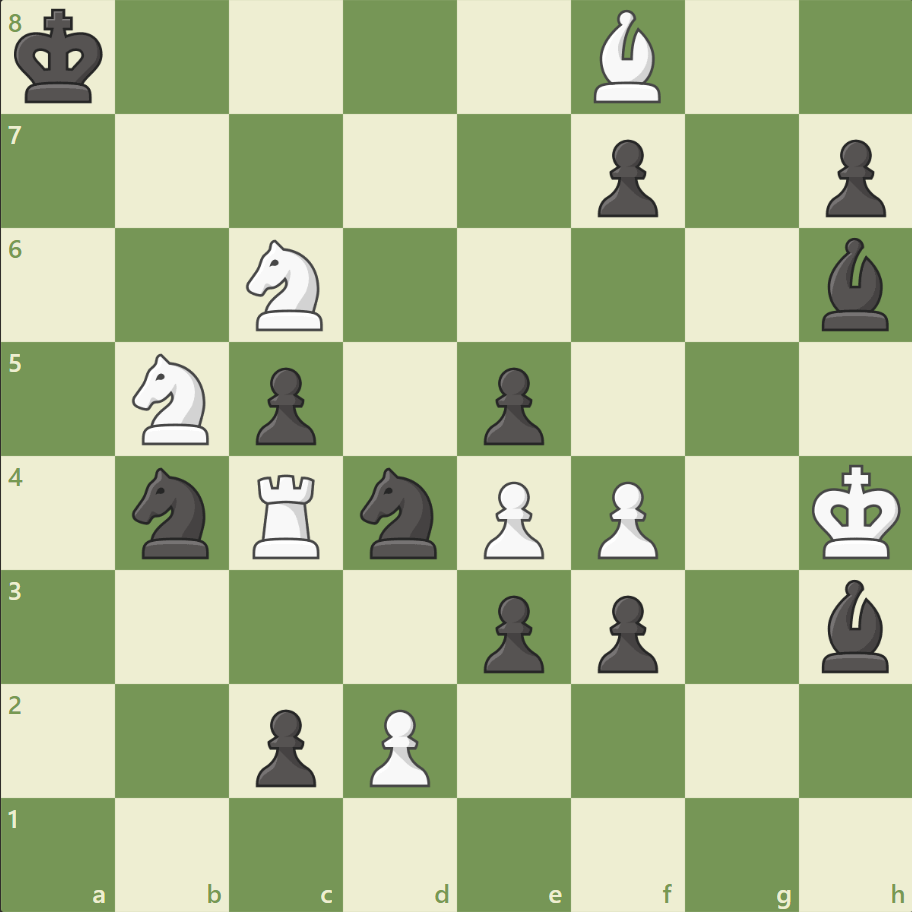B: (585, 6, 669, 109)
K: (806, 458, 906, 566)
N: (124, 348, 222, 450), (238, 234, 335, 337)
P: (474, 473, 549, 564), (588, 473, 662, 564), (361, 700, 435, 791)
R: (246, 466, 329, 563)
b: (812, 233, 896, 336), (812, 574, 896, 676)
k: (11, 4, 111, 112)
n: (124, 461, 222, 564), (351, 461, 449, 564)
p: (247, 359, 322, 450), (474, 359, 549, 450), (474, 586, 549, 677), (247, 700, 322, 791), (588, 132, 662, 223), (815, 132, 889, 223), (588, 586, 662, 677)
